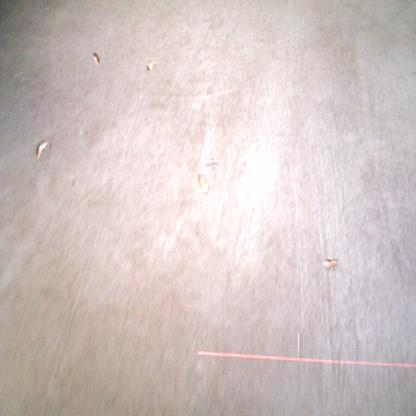dirty: (36, 140, 50, 160), (323, 256, 337, 270), (144, 58, 158, 71), (198, 174, 208, 192), (92, 52, 100, 66)
mark: (207, 158, 218, 169), (298, 333, 303, 357), (70, 177, 76, 188)
